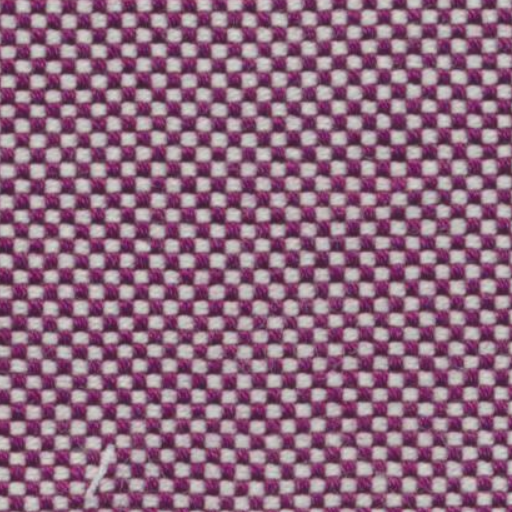DuanSha: (74, 434, 132, 499)
